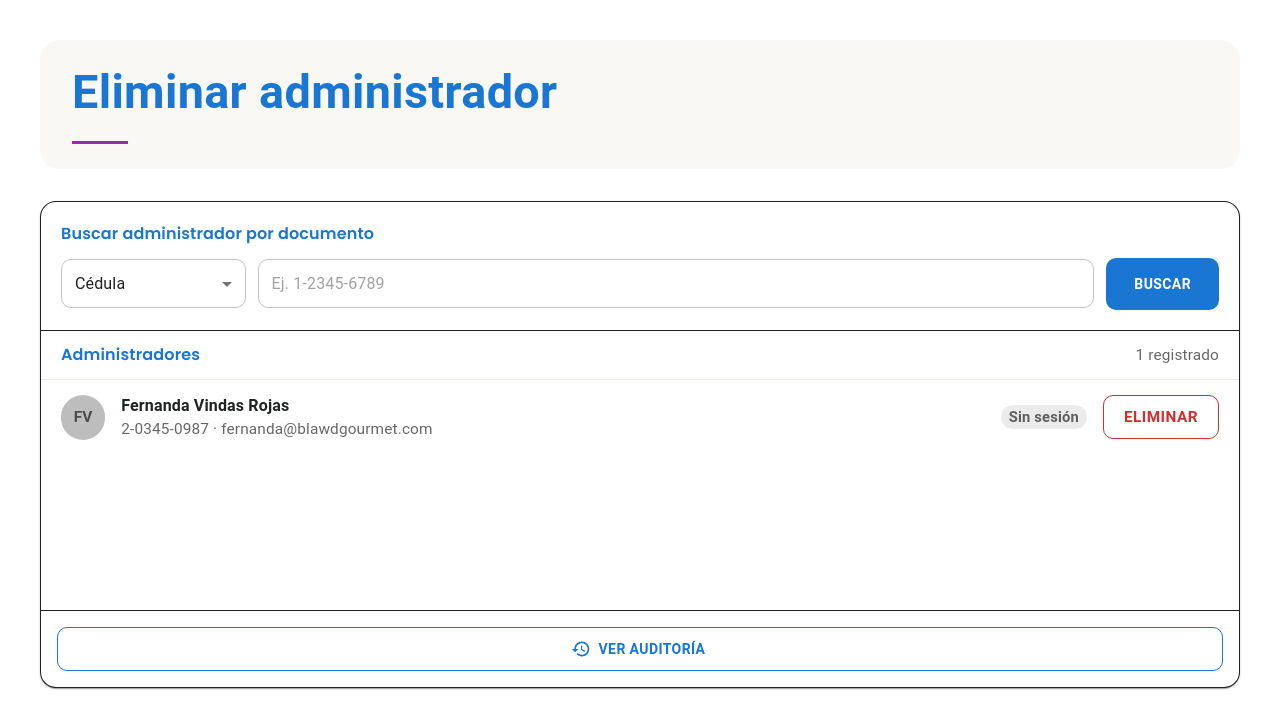
Scenario: AdminManagement audit log › refetches the real audit log after a successful deletion instead of guessing it locally
Click the button "Eliminar" at x=1161, y=417, box [1103,395,1219,439]
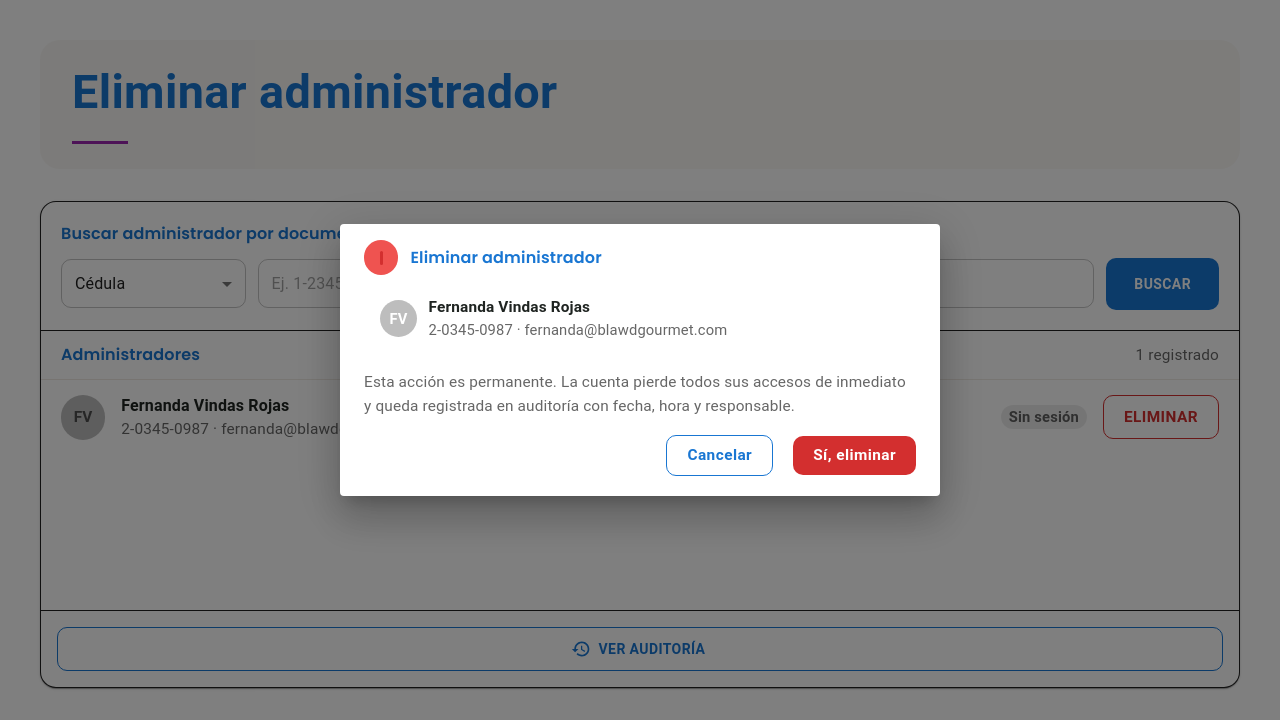
Click the button "Sí, eliminar" at x=855, y=455, box [793,436,916,475]
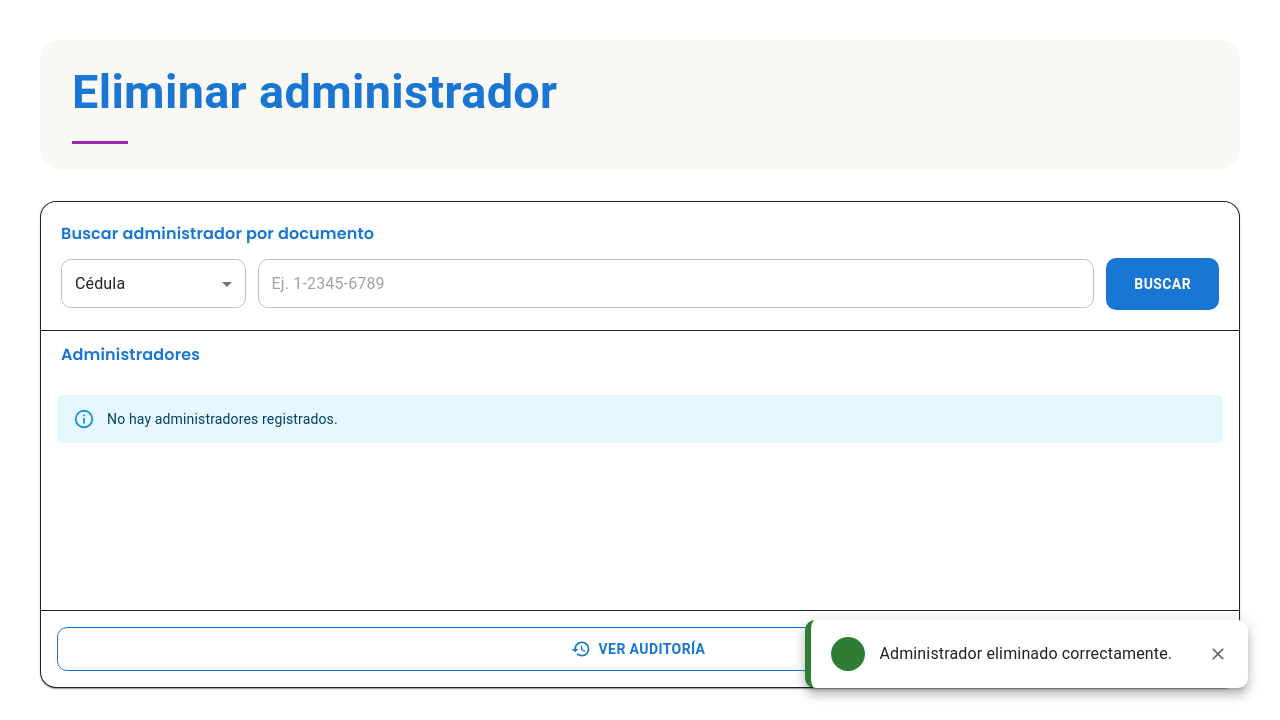
Expected: the message "Administrador eliminado correctamente." is shown, [805,620,1248,688]
Click the button "Ver auditoría" at x=640, y=649, box [57,627,1223,671]
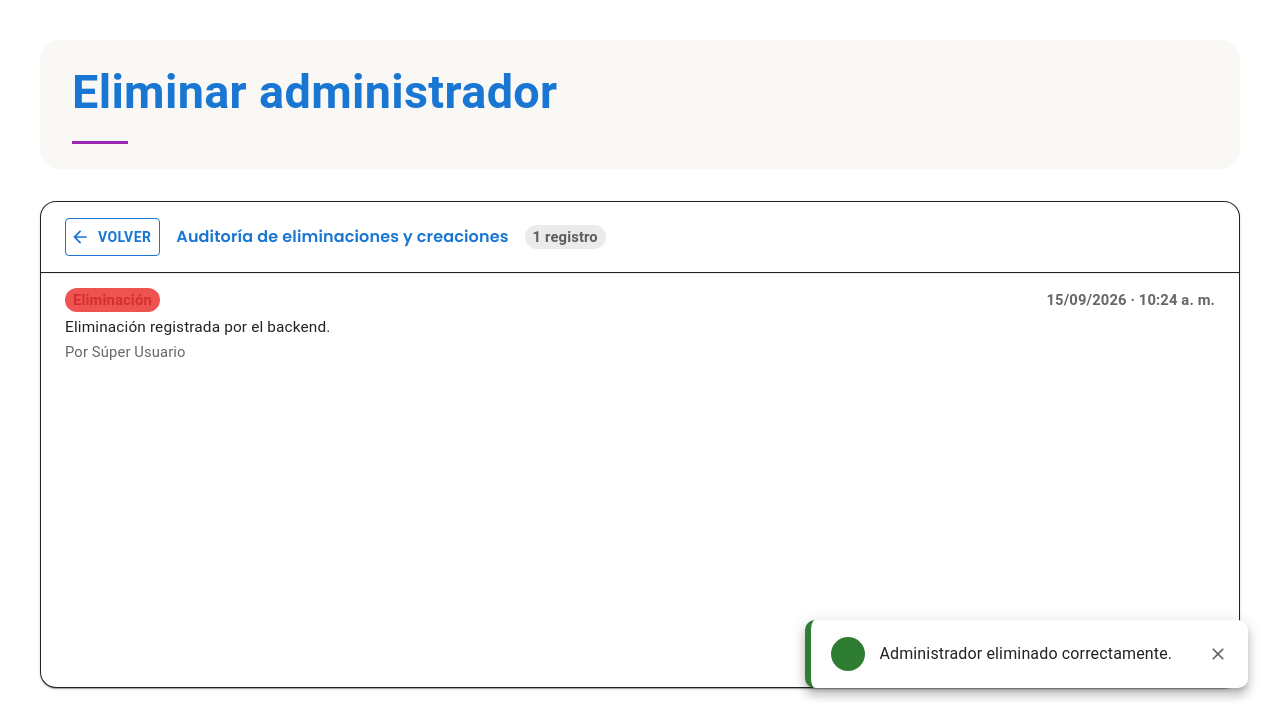
Expected: the text "Eliminación registrada por el backend." is shown, [65,318,330,336]
